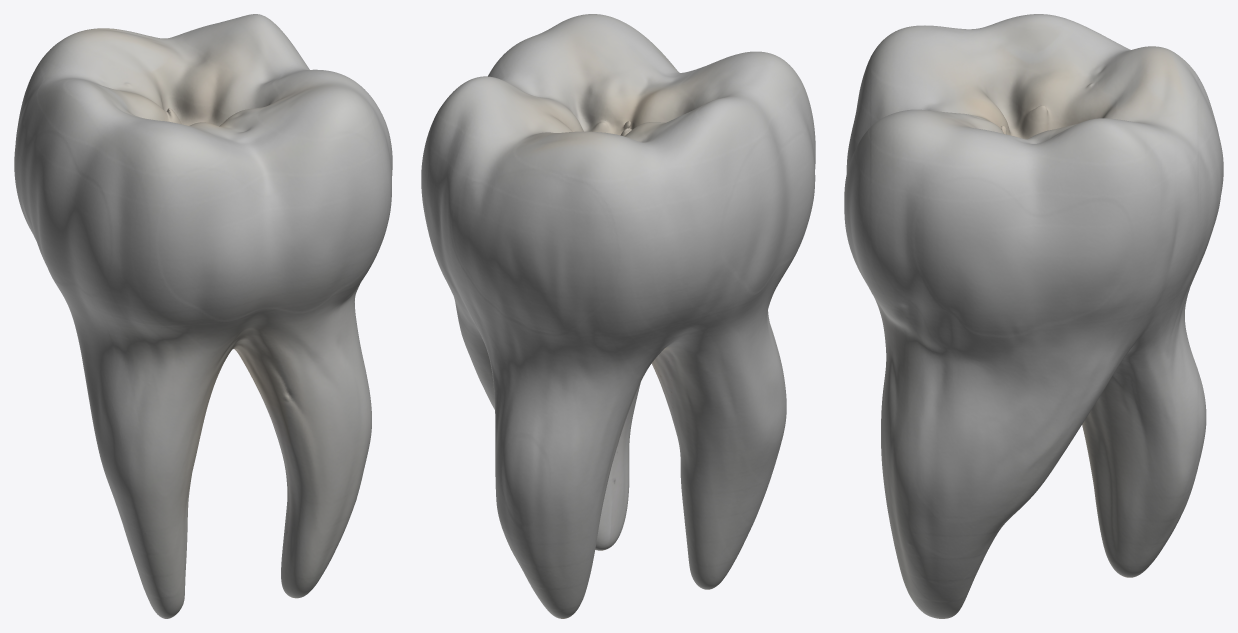
Rendered from tooth 3d model_Clone1.glb.
3 renders of one model, left to right at view 1: azimuth 30°, elevation 25°; view 2: azimuth 150°, elevation 25°; view 3: azimuth 270°, elevation 25°, orthographic.
Parts seen in each view (by area): view 1: tripo_node_bceb4b31-58ba-49e7-ae42-487121737df5; view 2: tripo_node_bceb4b31-58ba-49e7-ae42-487121737df5; view 3: tripo_node_bceb4b31-58ba-49e7-ae42-487121737df5.
Part boxes in pixels (x1,y1,x2,y2): tripo_node_bceb4b31-58ba-49e7-ae42-487121737df5: (14, 14, 392, 618); tripo_node_bceb4b31-58ba-49e7-ae42-487121737df5: (421, 14, 815, 618); tripo_node_bceb4b31-58ba-49e7-ae42-487121737df5: (844, 14, 1223, 618).
Size of the model in its own units: 0.6299 by 1 by 0.6571.
Materials: 1 (1 with a texture image).
